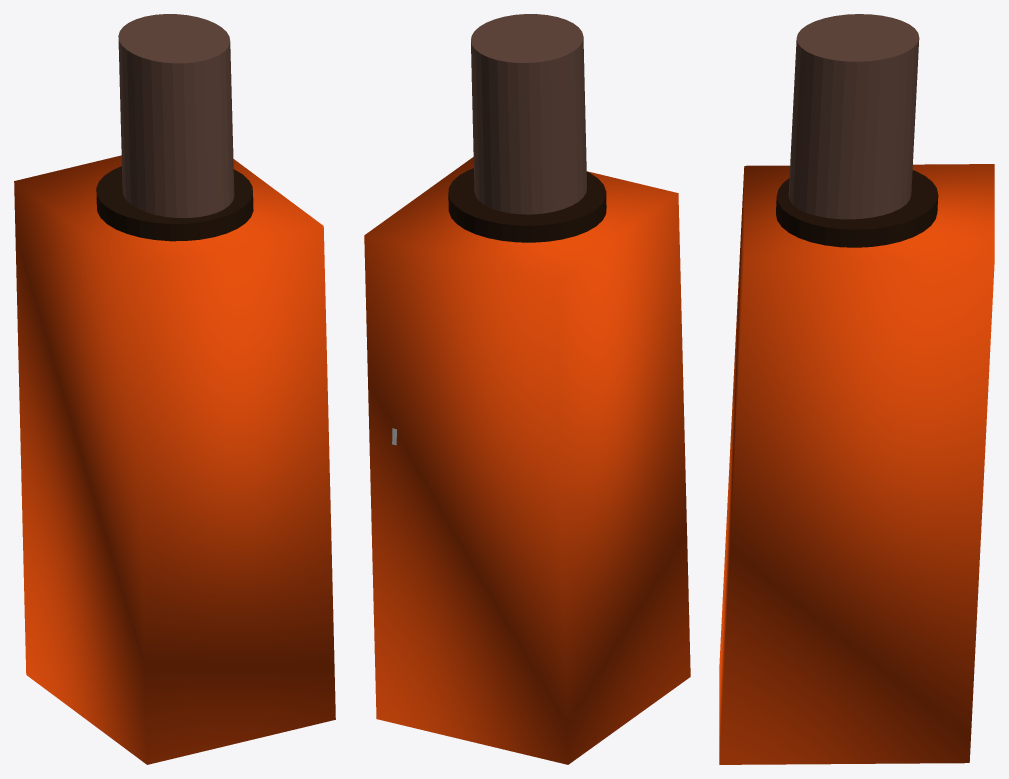
The model's file is alkoholi 4.fbx.
3 views of the same model, side by side, from view 1: azimuth 30°, elevation 25°; view 2: azimuth 150°, elevation 25°; view 3: azimuth 270°, elevation 25° (orthographic). The views are drawn at different scales.
Visible parts, largest first — view 1: Cube, Cylinder, Cylinder.001; view 2: Cube, Cylinder, Cylinder.001; view 3: Cube, Cylinder, Cylinder.001.
Boxes of the visible parts, x1=… form: Cube: x1=14, y1=155, x2=335, y2=764; Cylinder: x1=118, y1=14, x2=234, y2=217; Cylinder.001: x1=96, y1=166, x2=253, y2=241; Cube: x1=364, y1=157, x2=690, y2=764; Cylinder: x1=471, y1=14, x2=586, y2=214; Cylinder.001: x1=448, y1=168, x2=606, y2=242; Cube: x1=719, y1=164, x2=994, y2=764; Cylinder: x1=788, y1=14, x2=919, y2=219; Cylinder.001: x1=776, y1=170, x2=938, y2=247.
Bounding box in the file's own units: 54.71 × 181 × 66.62.
